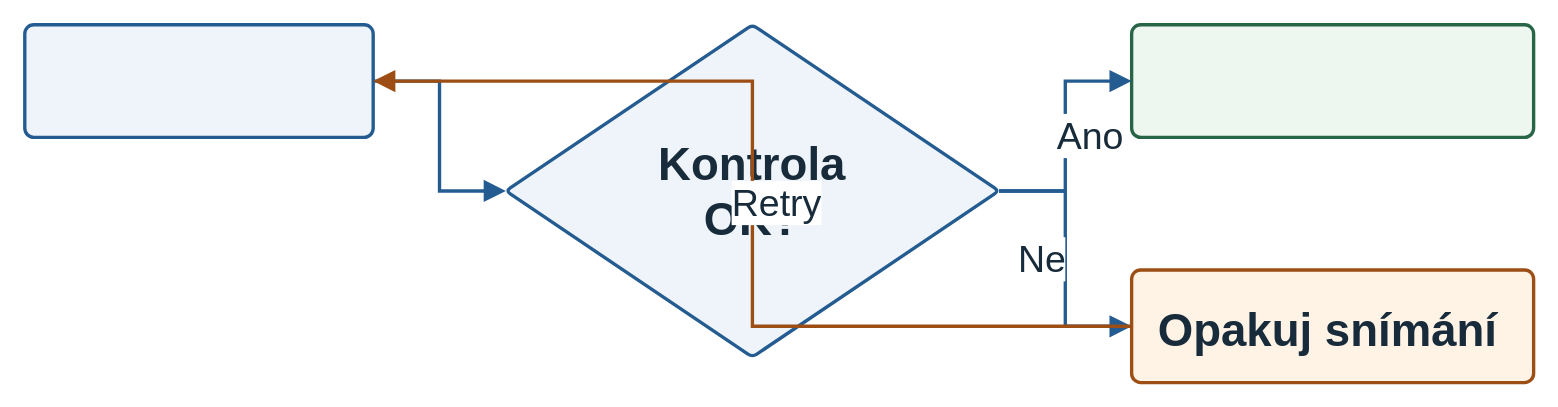
Some shapes in this 1558 by 407 pixel diagram are drawn without their labels. Here are the shapes that lost their labels. From the top down, the box of each, then its label:
(23, 23, 374, 138): Načti snímek
(1129, 23, 1535, 138): Ulož výsledek
